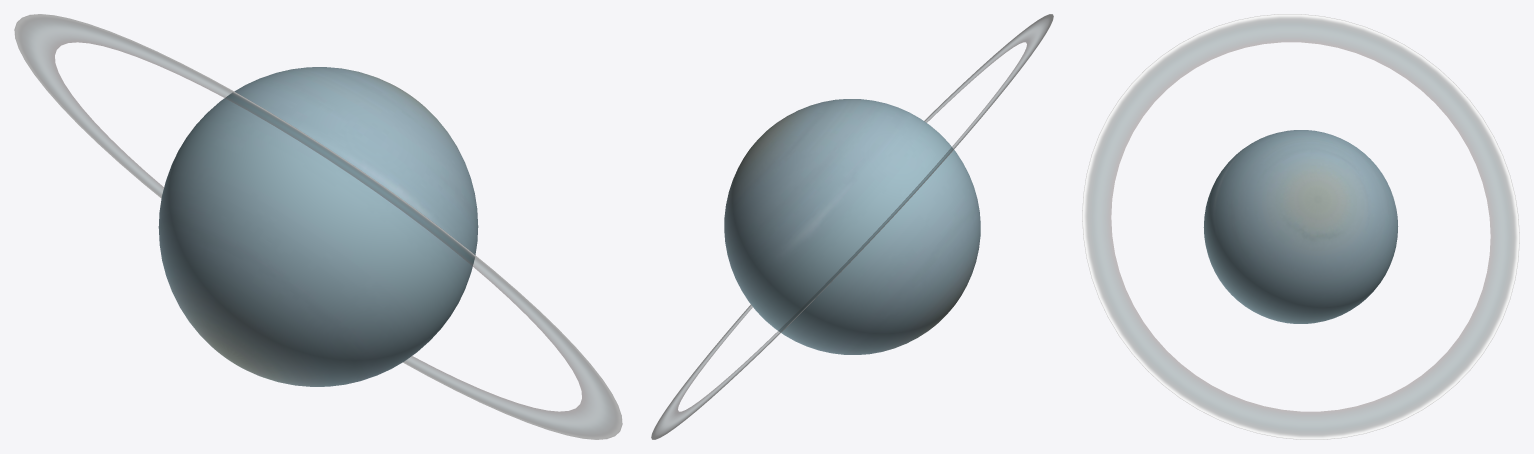
The model's file is uranus.glb.
3 renders of one model, left to right at view 1: azimuth 30°, elevation 25°; view 2: azimuth 150°, elevation 25°; view 3: azimuth 270°, elevation 25°, orthographic. The views are drawn at different scales.
Parts seen in each view (by area): view 1: Neptune, Circle; view 2: Neptune, Circle; view 3: Circle, Neptune.
Boxes of the visible parts, bbox=[...] form: Neptune: bbox=[158, 67, 478, 386]; Circle: bbox=[14, 14, 622, 439]; Neptune: bbox=[724, 99, 980, 354]; Circle: bbox=[651, 14, 1053, 439]; Circle: bbox=[1082, 14, 1519, 439]; Neptune: bbox=[1203, 130, 1398, 323].
Size of the model in its own units: 1.85 by 2.07 by 2.69.
2 materials, 2 textured.
